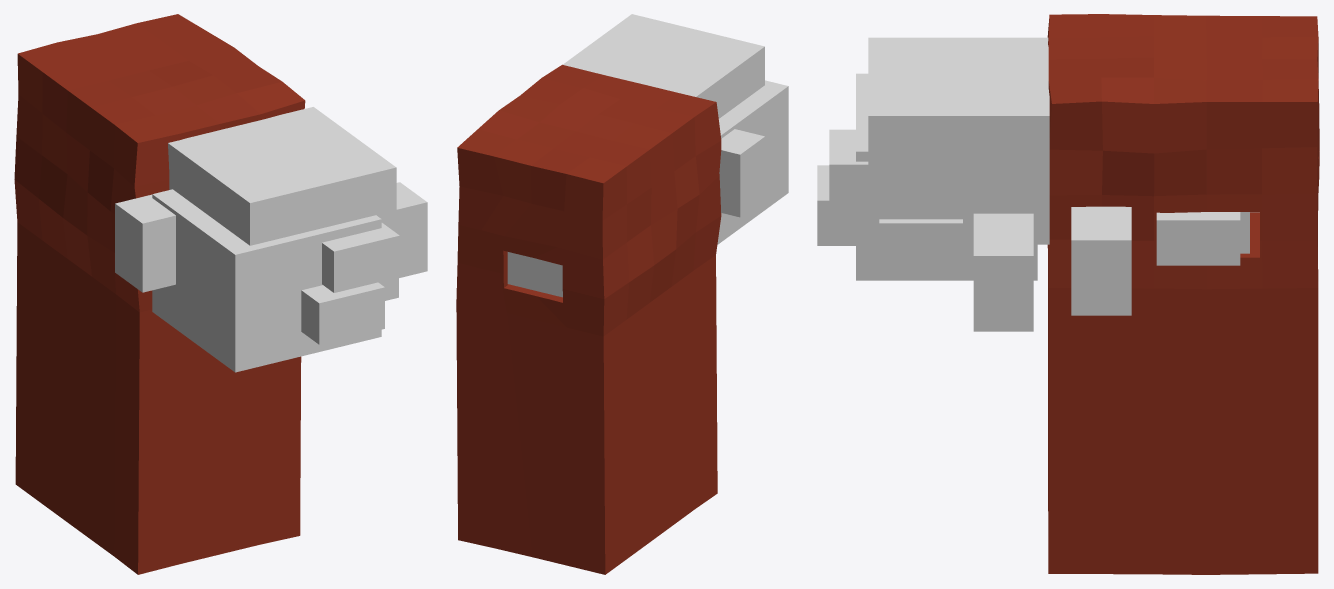
File: PostOffice.fbx
3 renders of one model, left to right at view 1: azimuth 30°, elevation 25°; view 2: azimuth 150°, elevation 25°; view 3: azimuth 270°, elevation 25°, orthographic. The views are drawn at different scales.
Parts seen in each view (by area): view 1: House.001, Cube.001, Cube.010, Cube.002, Cube.013, Cube.004, Cube.011; view 2: House.001, Cube.001, Cube.010, Cube.002, Cube.014, Cube.015; view 3: House.001, Cube.001, Cube.011, Cube.017, Cube.016, Cube.012, Cube.010, Cube.004, Cube.013.
Boxes of the visible parts, left/top/right/bottom form: House.001: left=14, top=14, right=305, bottom=574; Cube.001: left=168, top=107, right=396, bottom=287; Cube.010: left=152, top=189, right=381, bottom=372; Cube.002: left=115, top=194, right=175, bottom=292; Cube.013: left=301, top=282, right=384, bottom=344; Cube.004: left=322, top=223, right=399, bottom=292; Cube.011: left=396, top=182, right=427, bottom=277; House.001: left=456, top=64, right=721, bottom=574; Cube.001: left=563, top=14, right=764, bottom=118; Cube.010: left=717, top=80, right=788, bottom=244; Cube.002: left=719, top=129, right=765, bottom=217; Cube.014: left=507, top=252, right=562, bottom=297; Cube.015: left=541, top=260, right=562, bottom=295; House.001: left=1047, top=14, right=1319, bottom=574; Cube.001: left=868, top=37, right=1049, bottom=244; Cube.011: left=973, top=213, right=1033, bottom=331; Cube.017: left=1071, top=206, right=1131, bottom=315; Cube.016: left=1156, top=212, right=1240, bottom=265; Cube.012: left=879, top=219, right=962, bottom=268; Cube.010: left=856, top=73, right=1037, bottom=280; Cube.004: left=829, top=129, right=868, bottom=209; Cube.013: left=817, top=165, right=855, bottom=245.
Size of the model in its own units: 347 by 517 by 494.
